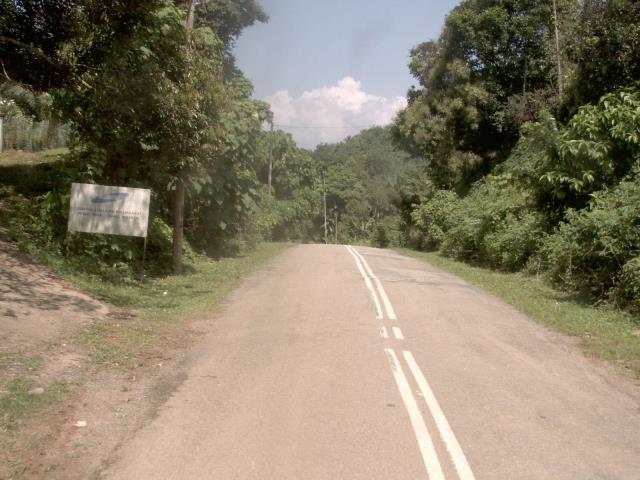ads_sign: (59, 176, 158, 249)
